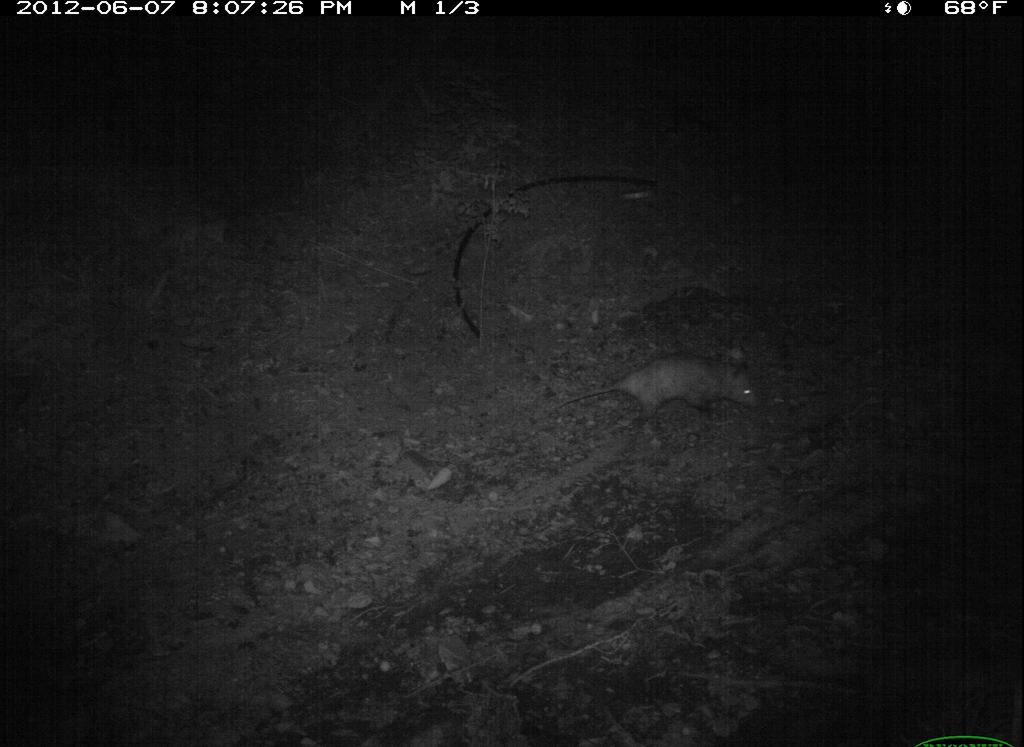opossum: (541, 338, 776, 445)
